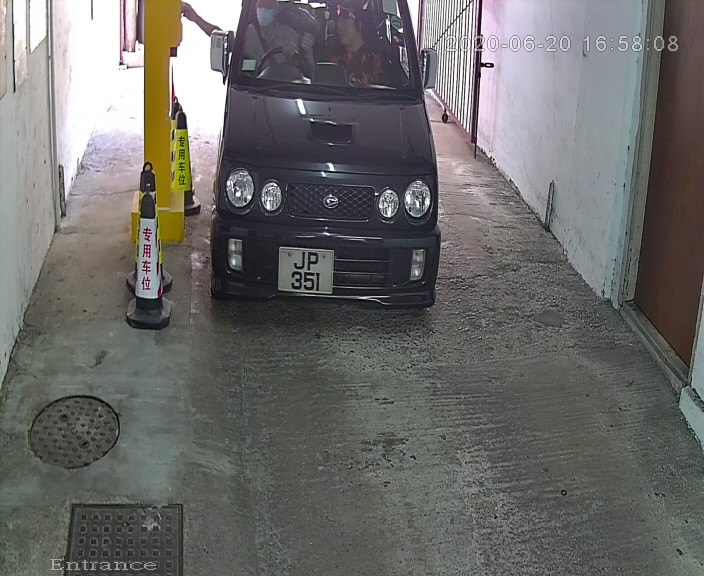privatecar: (206, 2, 468, 337)
